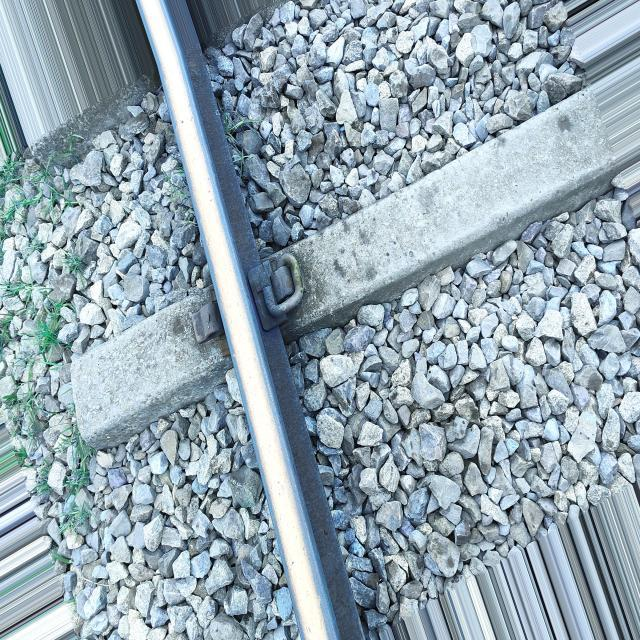Good Fasteners: (262, 255, 304, 318)
Missing Fastener: (181, 293, 225, 358)
